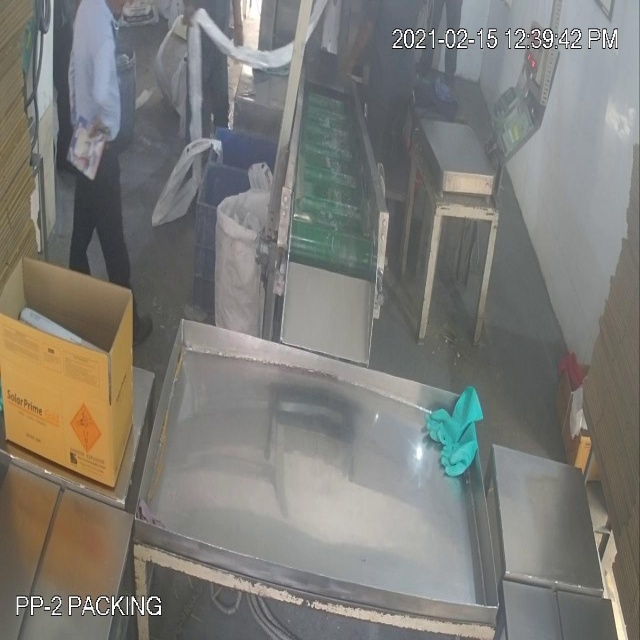Guantes: (424, 372, 488, 492)
Sin_guantes: (335, 18, 380, 100), (86, 55, 117, 153)
